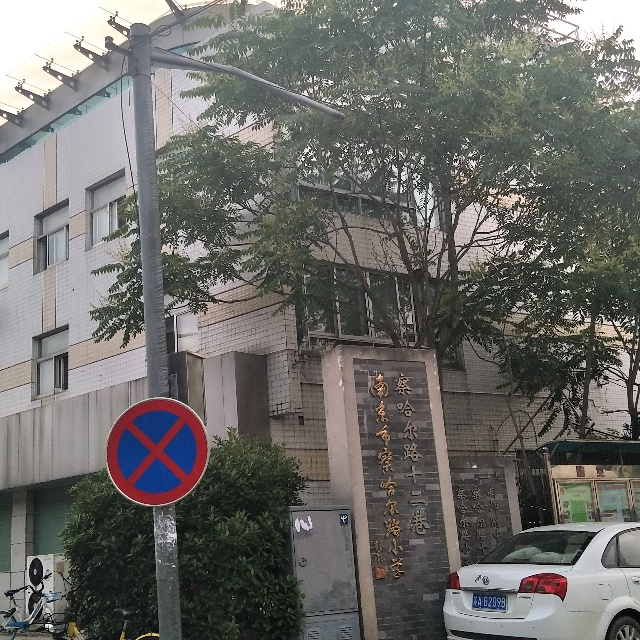stop: (115, 409, 197, 493)
